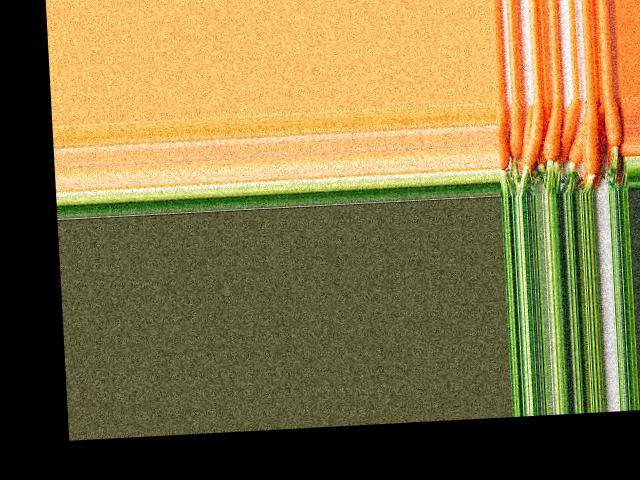carrot: (603, 93, 625, 156)
